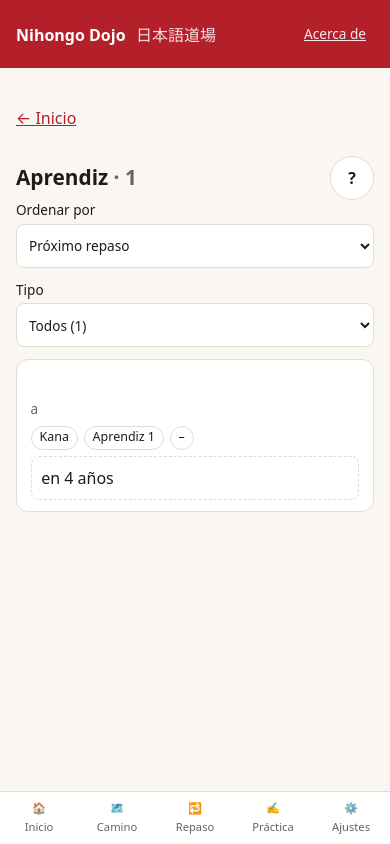
Test: MemoryPage › reveals the absolute date on tap
Click the button "en 4 años". click: (77, 478)
box: left=31, top=456, right=359, bottom=500
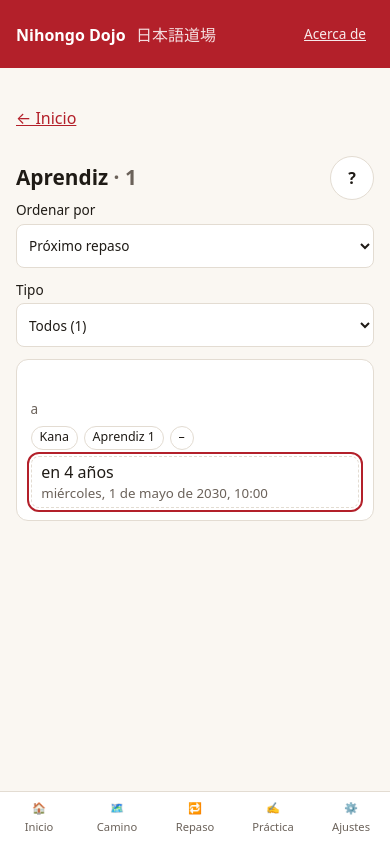
Now the text "miércoles, 1 de mayo de 2030, 10:00" is shown, box left=41, top=484, right=268, bottom=504
